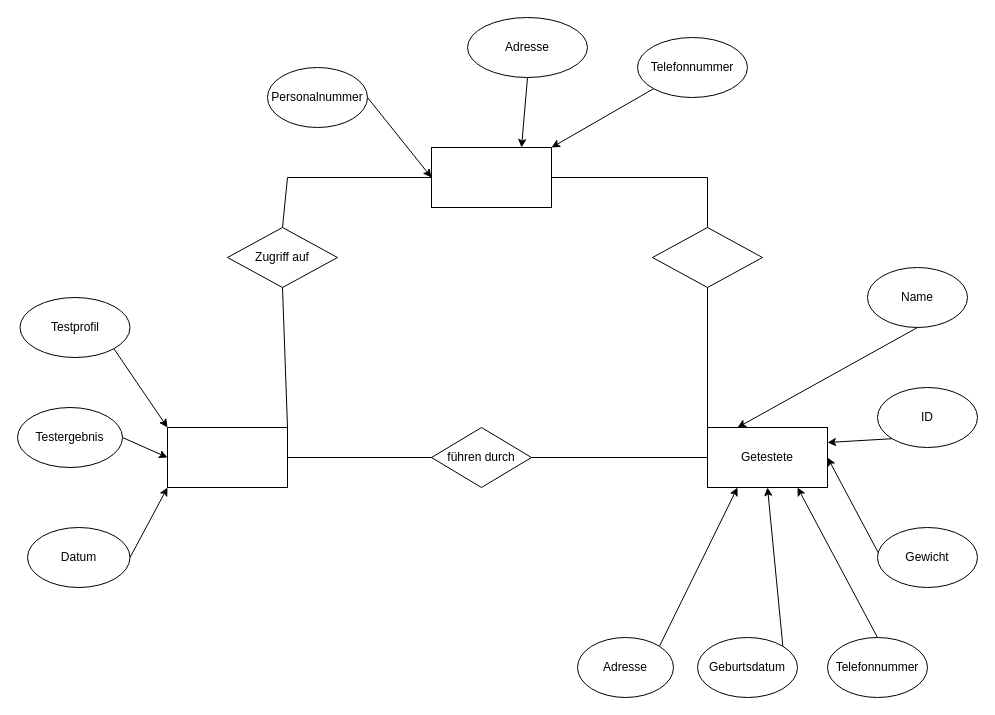
Image size: 995x715. Some labels were removed from this diagram. The box of each missing label's shape, as (x1, y1, x2, y2) in pixels:
arbeitet mit: (652, 226, 762, 288)
Diagnostiker:innen: (430, 146, 552, 208)
Tests: (166, 426, 288, 488)
